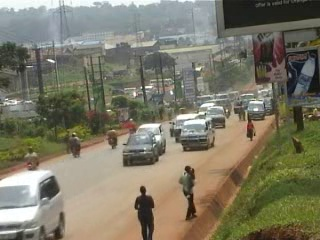Car: (0, 169, 73, 239), (120, 131, 160, 168), (133, 121, 167, 153), (169, 117, 177, 136)
Motorcycle: (22, 143, 40, 169), (68, 130, 83, 161), (103, 125, 120, 149), (125, 115, 137, 135), (220, 104, 232, 120)
